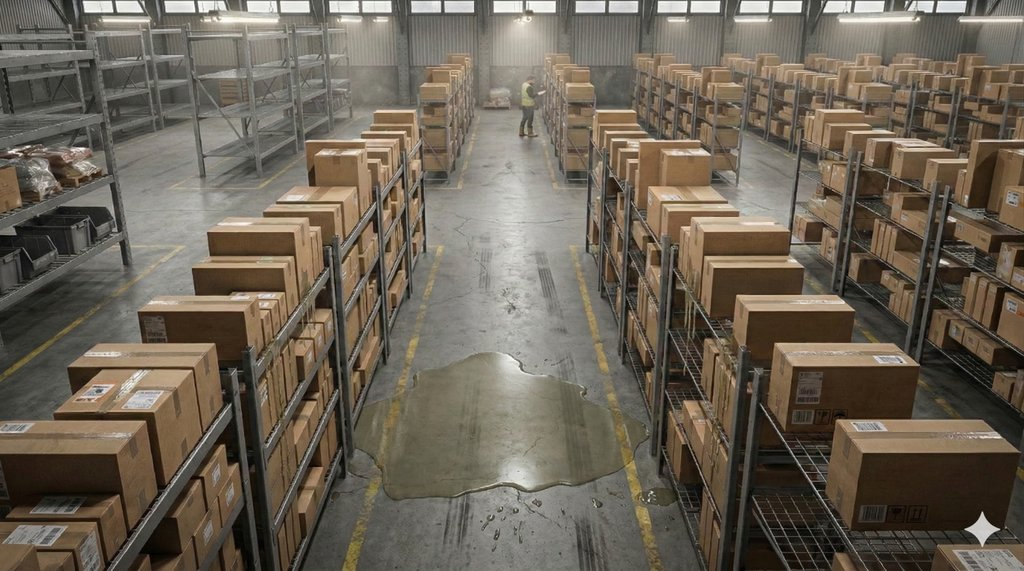empty_shelf: (180, 12, 303, 163), (0, 28, 113, 127), (111, 21, 178, 132), (304, 11, 359, 130)
person: (494, 65, 548, 147)
spill: (366, 340, 642, 519)
